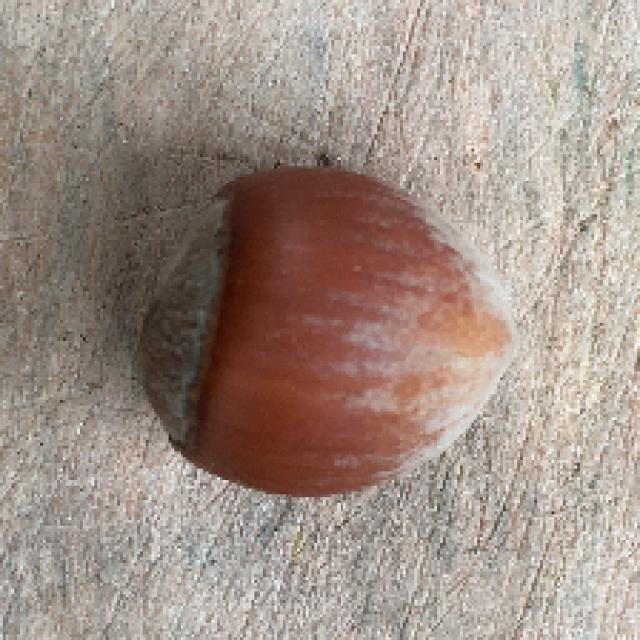qualityHazelnut: (138, 163, 528, 505)
